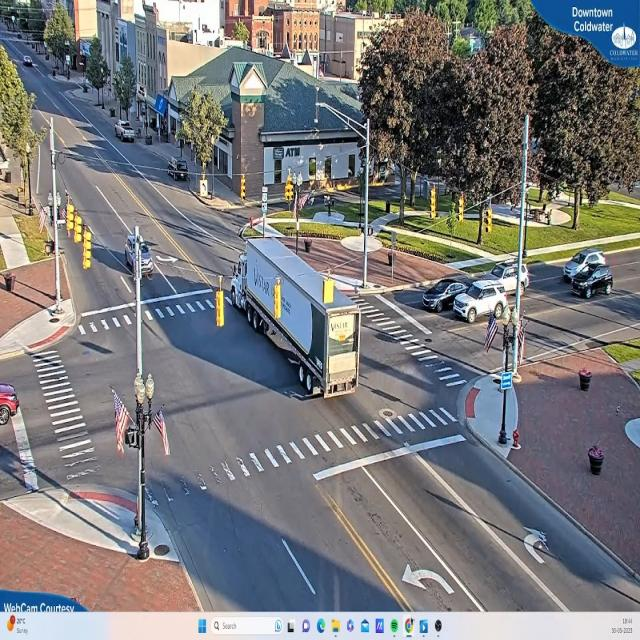car: (452, 285, 512, 326), (421, 278, 477, 312), (481, 264, 533, 299), (562, 249, 611, 282), (570, 267, 615, 300), (1, 384, 22, 423), (117, 122, 137, 144)
truck: (233, 237, 362, 399)
